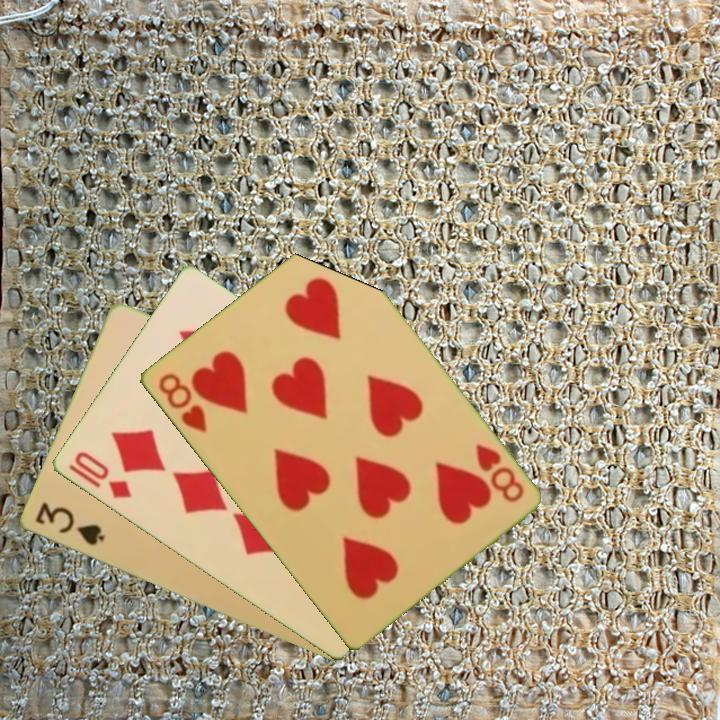10d: (70, 448, 134, 502)
3s: (31, 498, 107, 549)
8h: (154, 369, 210, 436), (471, 440, 527, 506)
